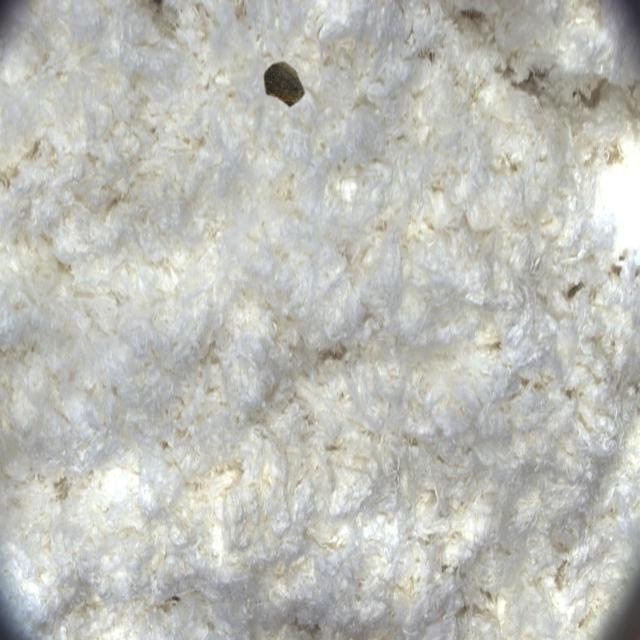dust: (252, 37, 327, 136)
